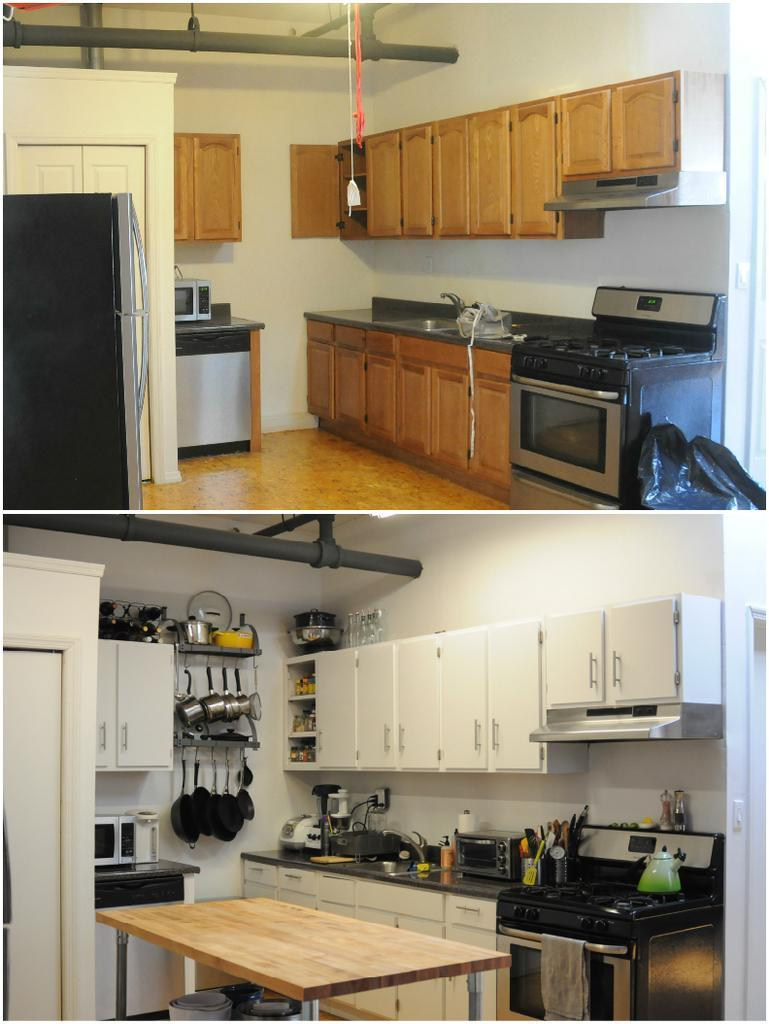door: (5, 650, 58, 1017), (753, 643, 769, 997)
